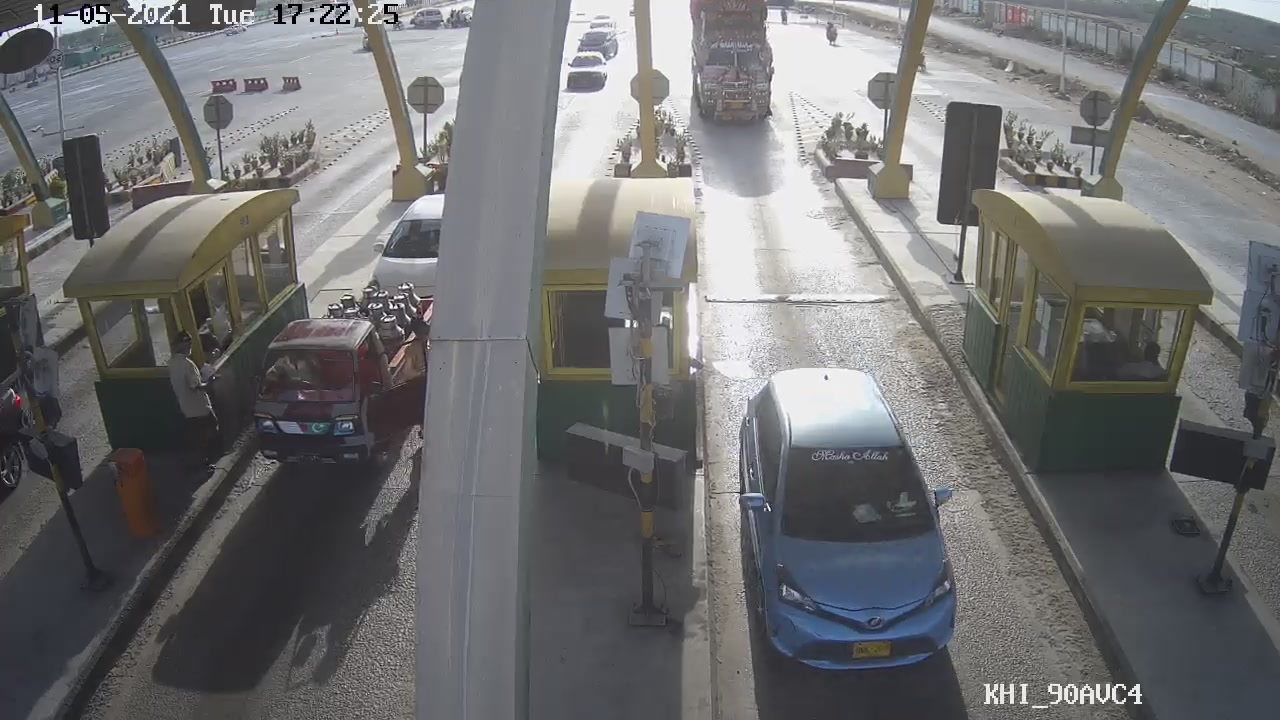F1: (733, 362, 966, 686)
